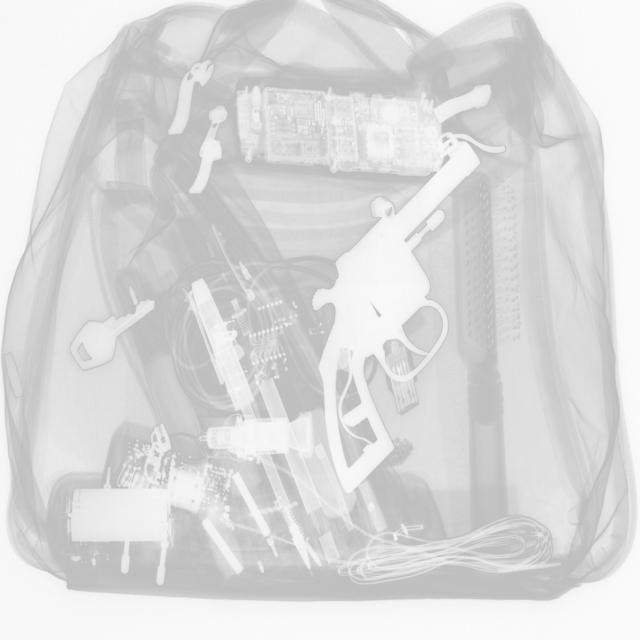pistol: (313, 140, 481, 491)
